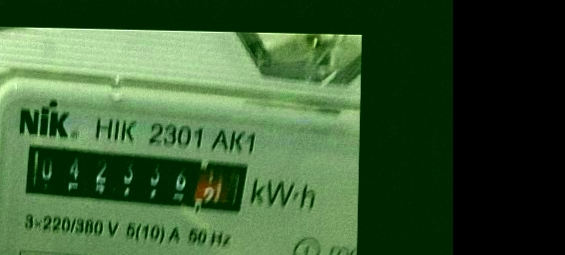0: (40, 153, 54, 182)
2: (92, 156, 111, 183)
3: (119, 156, 136, 186), (148, 158, 163, 186)
4: (66, 154, 83, 182)
6: (173, 165, 189, 192)
screen: (15, 135, 256, 221)
